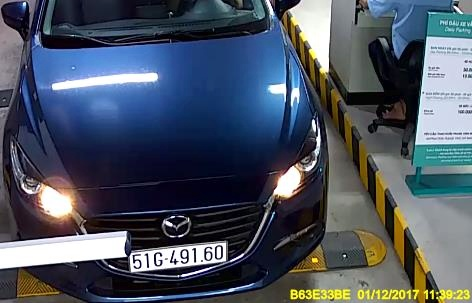plate: (120, 239, 233, 271)
